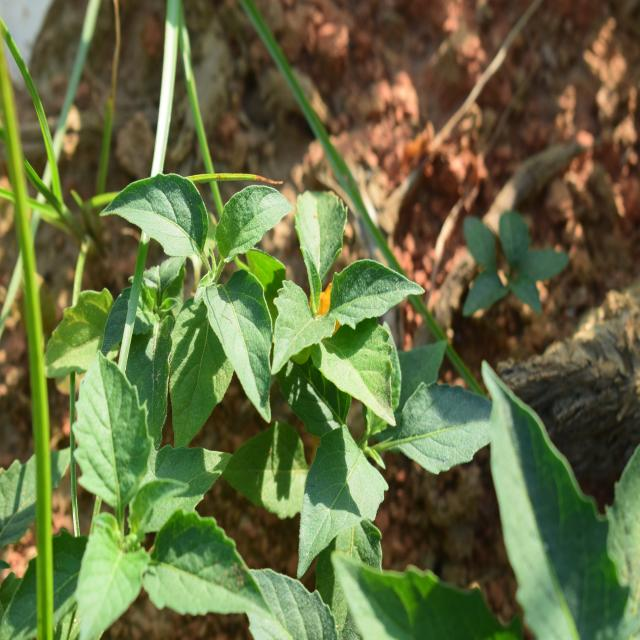Black_nightshade: (277, 216, 481, 543), (131, 181, 325, 457), (54, 363, 256, 624)
